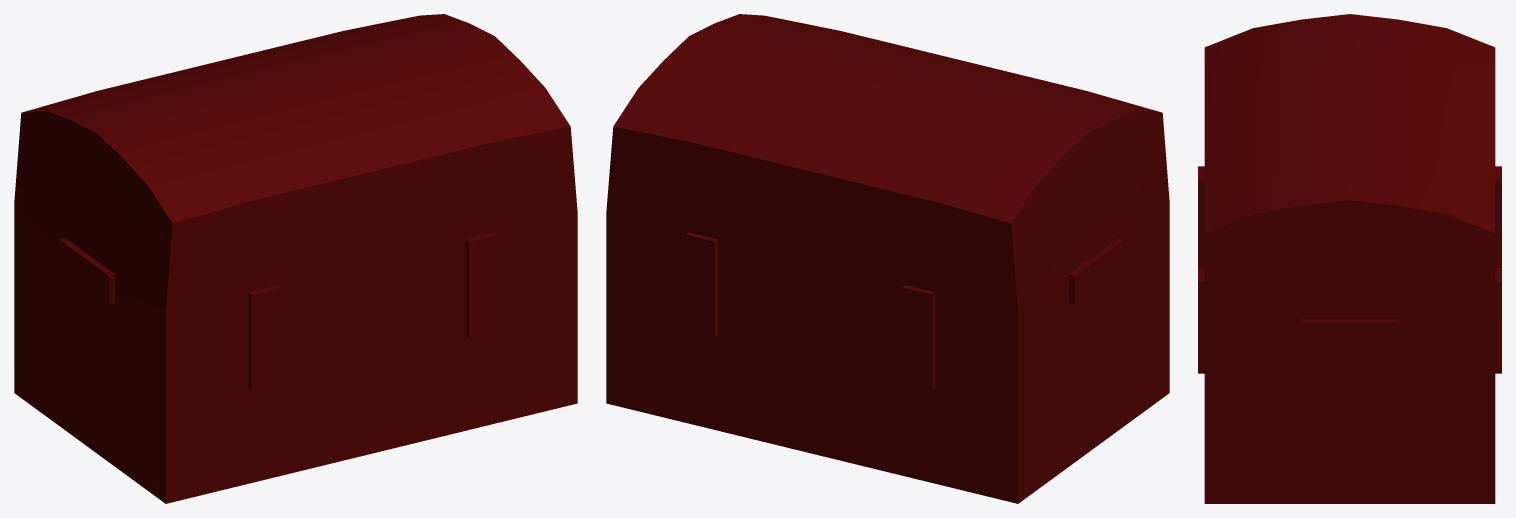
The model's file is hidingChest.fbx.
3 views of the same model, side by side, from view 1: azimuth 30°, elevation 25°; view 2: azimuth 150°, elevation 25°; view 3: azimuth 270°, elevation 25° (orthographic). The views are drawn at different scales.
Visible parts, largest first — view 1: hidingChest; view 2: hidingChest; view 3: hidingChest.
Part boxes in pixels (bbox=[...]): hidingChest: bbox=[14, 14, 577, 503]; hidingChest: bbox=[606, 14, 1169, 503]; hidingChest: bbox=[1198, 14, 1501, 503].
Size of the model in its own units: 1390 by 987 by 900.
